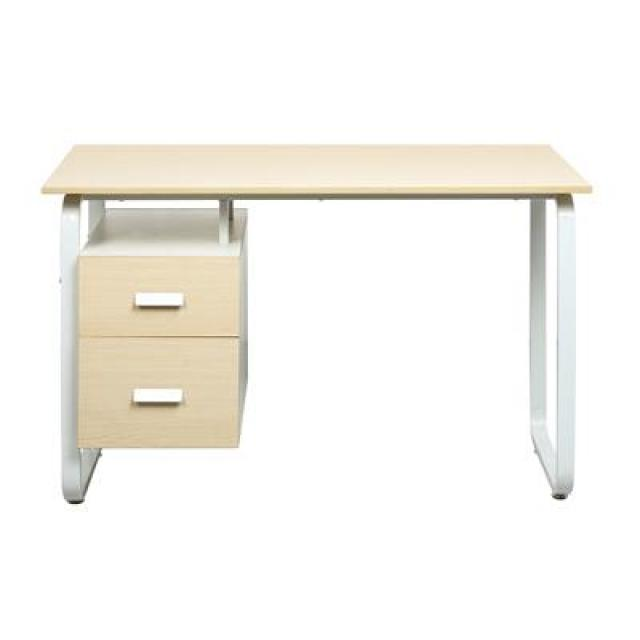table: (38, 117, 605, 528)
